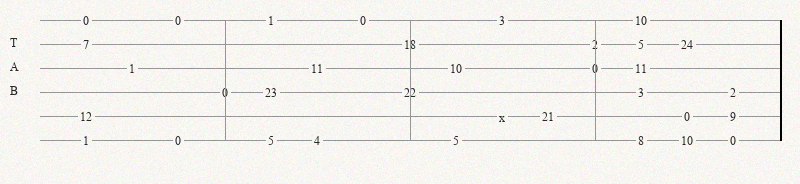0: (83, 14, 93, 27), (175, 134, 185, 147), (175, 14, 185, 27), (222, 86, 232, 99), (360, 14, 370, 27), (592, 62, 602, 75), (684, 110, 694, 123), (730, 134, 740, 147)
1: (83, 134, 93, 147), (129, 62, 139, 75), (268, 14, 278, 27)
10: (450, 62, 466, 75), (635, 14, 651, 27), (681, 134, 697, 147)
11: (311, 62, 327, 75), (635, 62, 651, 75)
12: (80, 110, 96, 123)
18: (404, 38, 420, 51)
2: (592, 38, 602, 51), (730, 86, 740, 99)
21: (542, 110, 558, 123)
22: (404, 86, 420, 99)
23: (265, 86, 281, 99)
24: (681, 38, 697, 51)
3: (499, 14, 509, 27), (638, 86, 648, 99)
4: (314, 134, 324, 147)
5: (268, 134, 278, 147), (453, 134, 463, 147), (638, 38, 648, 51)
7: (83, 38, 93, 51)
8: (638, 134, 648, 147)
9: (730, 110, 740, 123)
x: (499, 111, 509, 121)
